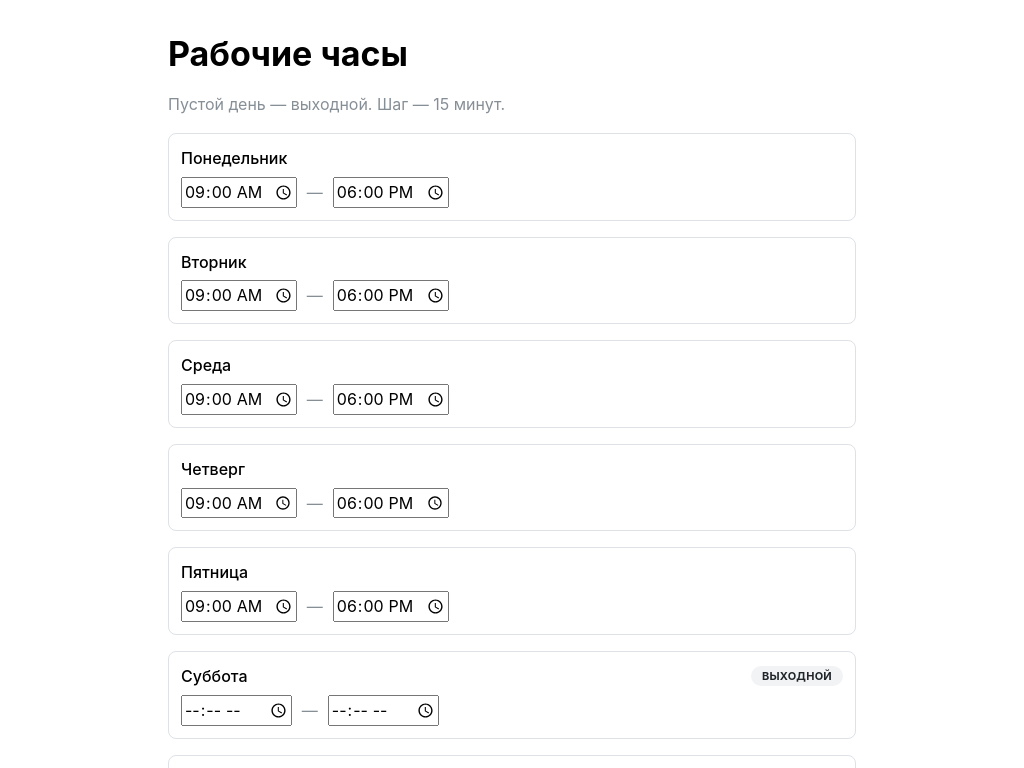
it: Редактор рабочих часов › блокирует сохранение при конце раньше начала
Expected: the time field named "Понедельник начало" is shown, left=181, top=177, right=297, bottom=208
Replace the text in the time field named "Понедельник конец" with "08:00": (391, 192) left=333, top=177, right=449, bottom=208
(page scrolled)
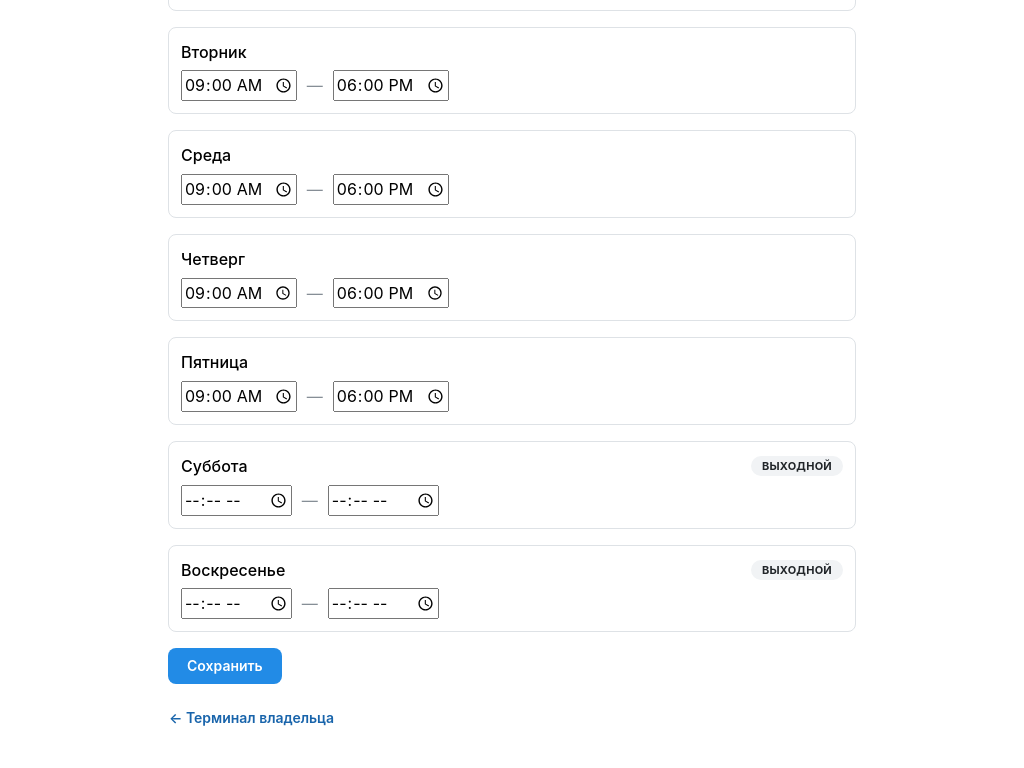
Click the button "Сохранить": click(225, 666) left=168, top=648, right=282, bottom=684
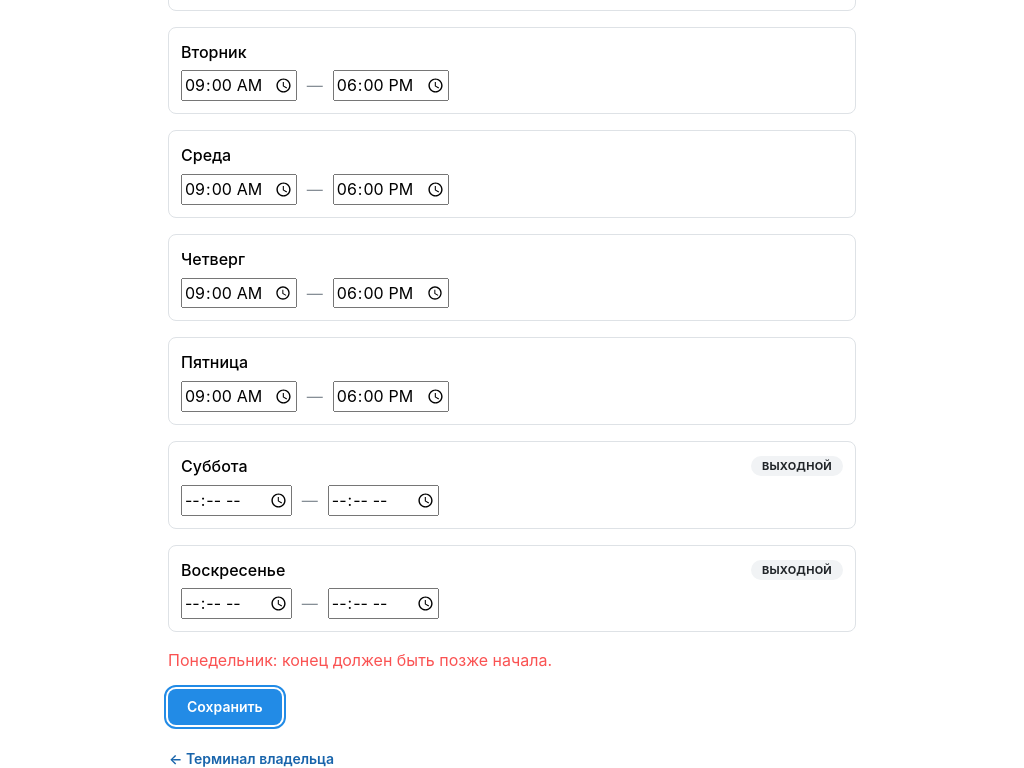
Now the text "Понедельник: конец должен быть позже начала." is shown, box left=168, top=650, right=552, bottom=670
